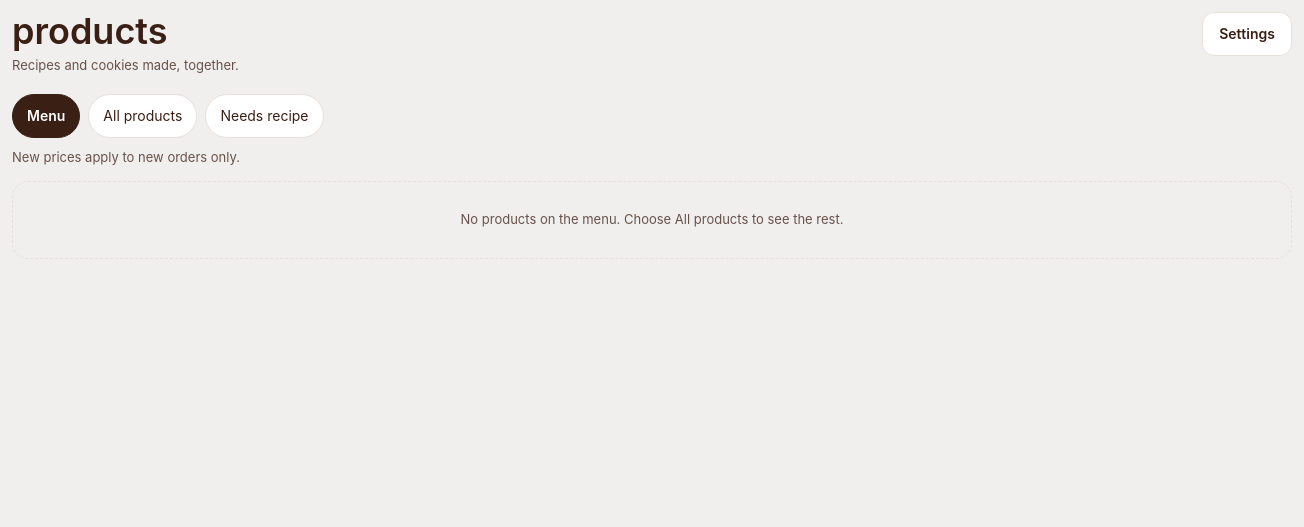
product-centered Make library › shows actual visibility/sold-out/rotating labels and explains the optional shop badge
This screenshot has width=1304, height=527.
What coordinates should you click on to do the following:
click the button "All products"
I would click on:
 (143, 116)
Its box is [88,94,197,138].
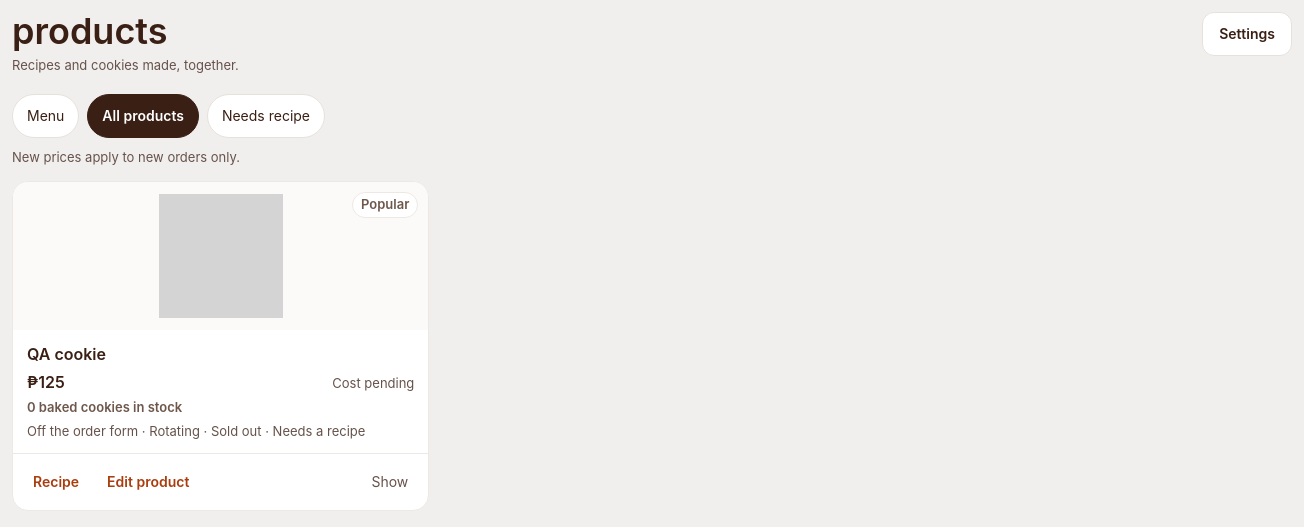
Check: the text "Off the order form · Rotating · Sold out · Needs a recipe" is shown, box [27,422,414,441]
Check: the text "Popular" is shown, box [352,192,418,218]
Check: the text "0 baked cookies in stock" is shown, box [27,399,182,415]
